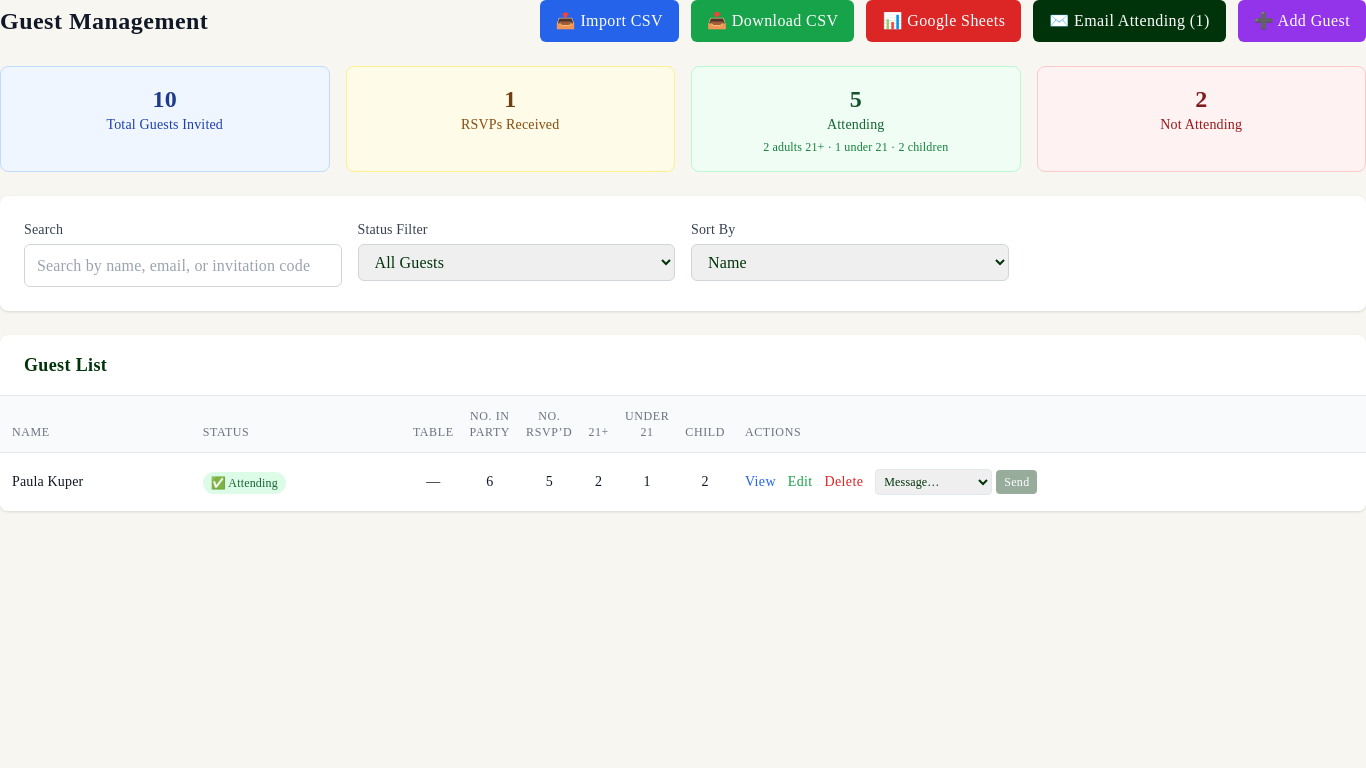
it: the Edit Guest popup › offers all three fields
Expected: the text "Paula Kuper" is shown, [12,474,83,489]
Click the button "Edit". click: [800, 482]
box: [788,472,813,492]
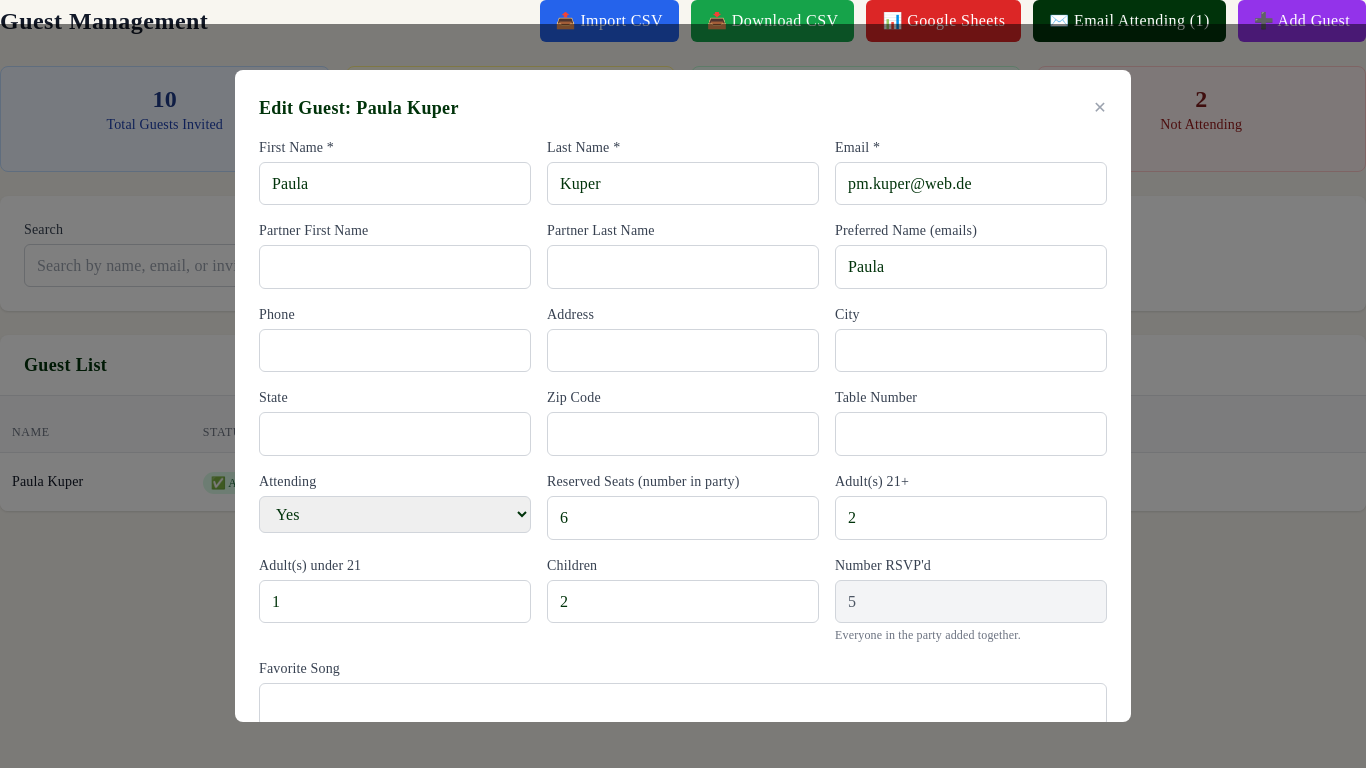
Now the heading "Edit Guest: Paula Kuper" is shown, box [259,94,459,122]
Now the number field labelled "Adult(s) 21+" is shown, box [835,496,1107,540]
Now the number field labelled "Adult(s) under 21" is shown, box [259,580,531,623]
